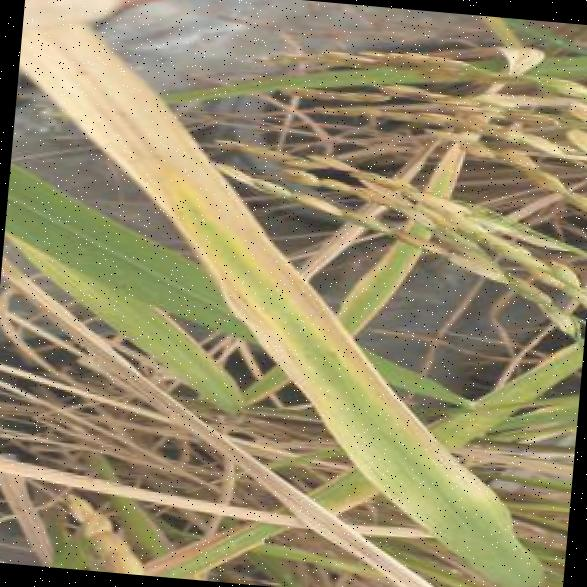Bacteria_Leaf_Blight: (324, 356, 466, 546)
